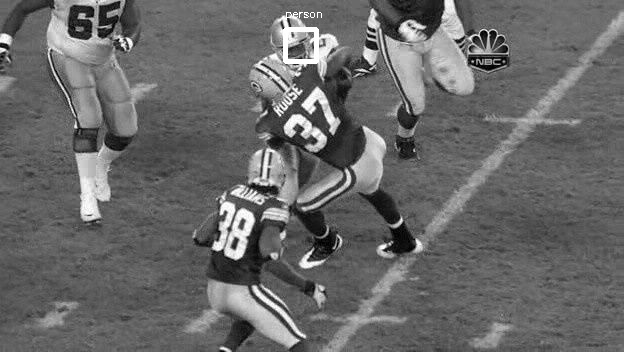person: (276, 22, 313, 69), (275, 22, 312, 69), (277, 22, 314, 69), (276, 21, 313, 68), (276, 23, 313, 70)
target_negative: (405, 78, 534, 309), (467, 2, 551, 258), (497, 71, 559, 331), (452, 161, 528, 346), (112, 193, 311, 230), (522, 276, 596, 299)
